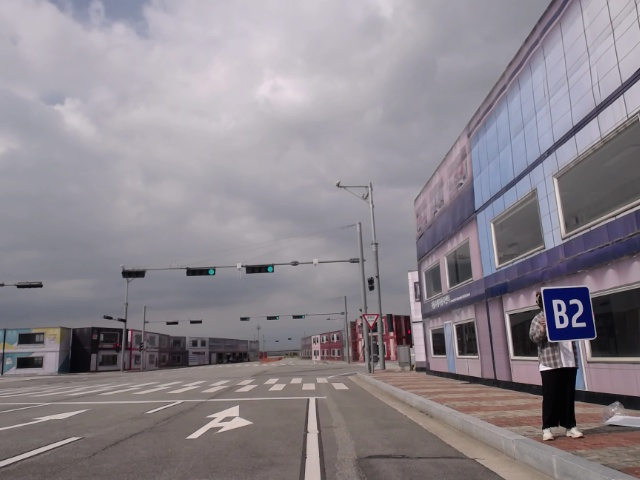delivery_b2: (540, 286, 600, 344)
straight_green_4: (184, 265, 217, 277), (245, 264, 275, 275), (291, 314, 307, 320), (266, 315, 281, 321)
